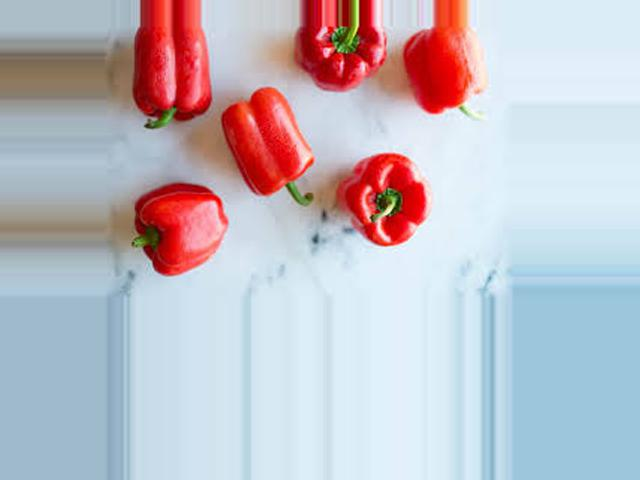bell_pepper: (292, 26, 383, 94)
